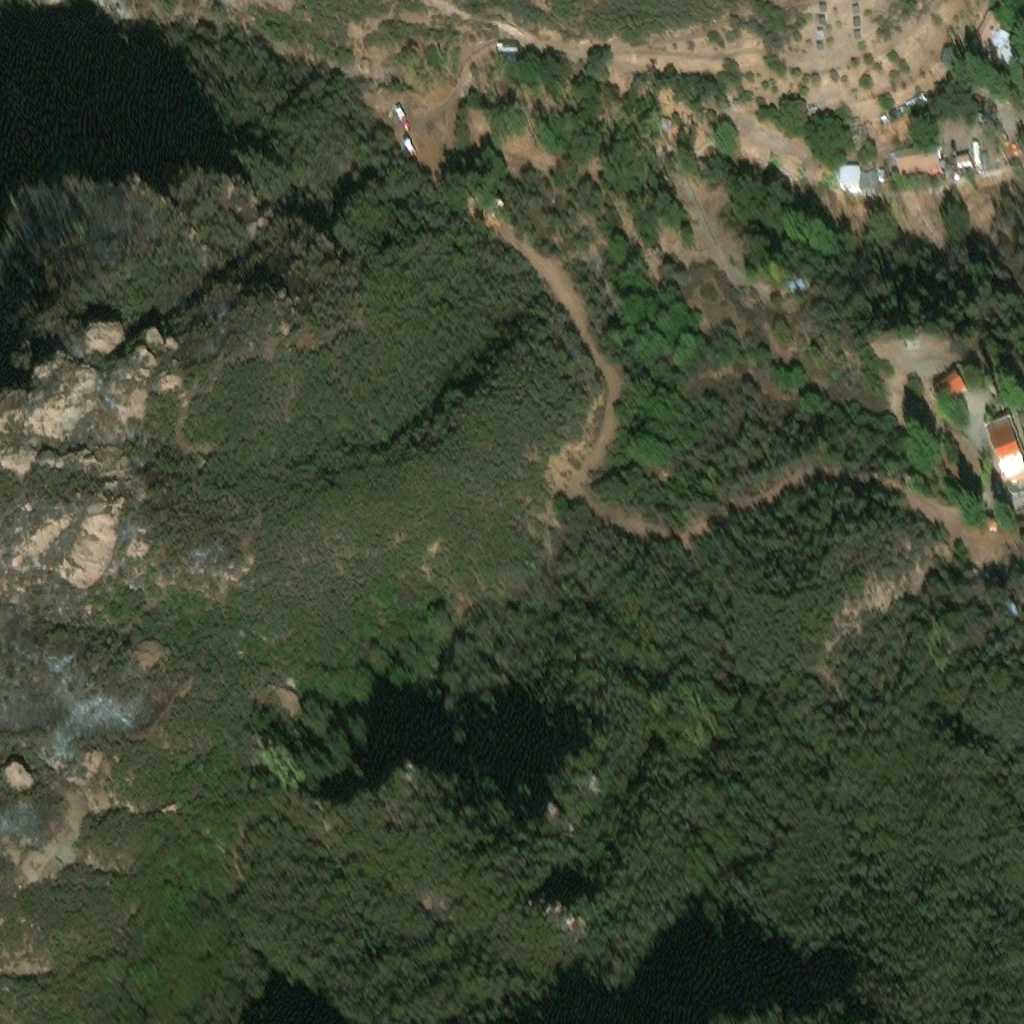0 no-damage: (962, 8, 1022, 71), (983, 414, 1023, 476), (887, 146, 937, 172), (930, 368, 965, 401), (838, 165, 859, 184), (838, 118, 861, 135), (904, 93, 928, 109), (499, 49, 521, 65), (486, 193, 503, 212), (781, 271, 804, 285), (859, 167, 876, 185), (952, 152, 971, 167), (658, 118, 671, 132), (1009, 132, 1020, 146), (971, 140, 978, 159), (465, 188, 476, 199), (878, 114, 888, 123), (961, 139, 969, 150), (732, 98, 741, 106), (819, 19, 826, 29), (818, 31, 824, 42), (898, 106, 907, 113), (855, 36, 862, 45), (974, 160, 984, 166), (805, 106, 817, 111), (977, 107, 985, 114), (977, 115, 985, 122), (852, 0, 860, 7), (817, 44, 823, 53), (854, 11, 860, 20), (938, 155, 944, 163), (821, 9, 827, 17), (980, 148, 985, 157), (855, 24, 860, 32)
4 un-classified: (49, 0, 61, 5), (96, 0, 105, 6)
